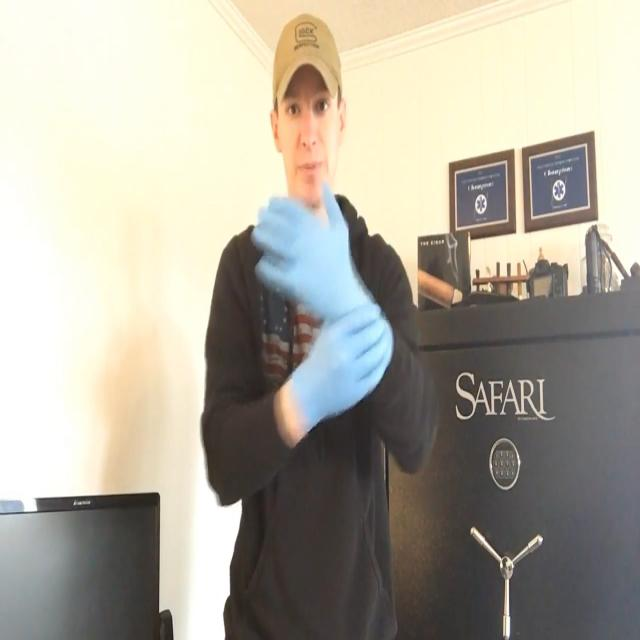Gloves: (251, 183, 380, 331), (293, 306, 397, 455)
